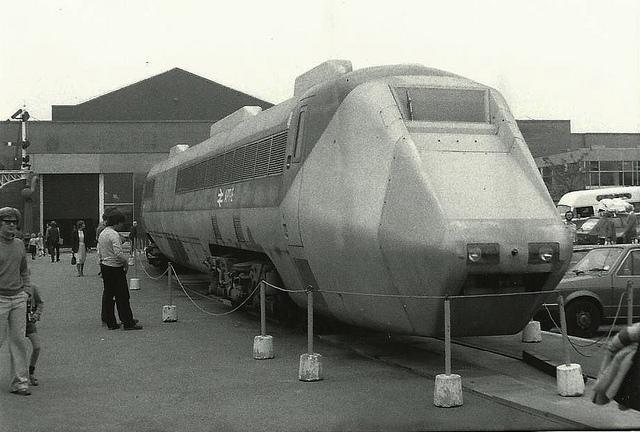car: (561, 240, 640, 336), (574, 212, 640, 244)
